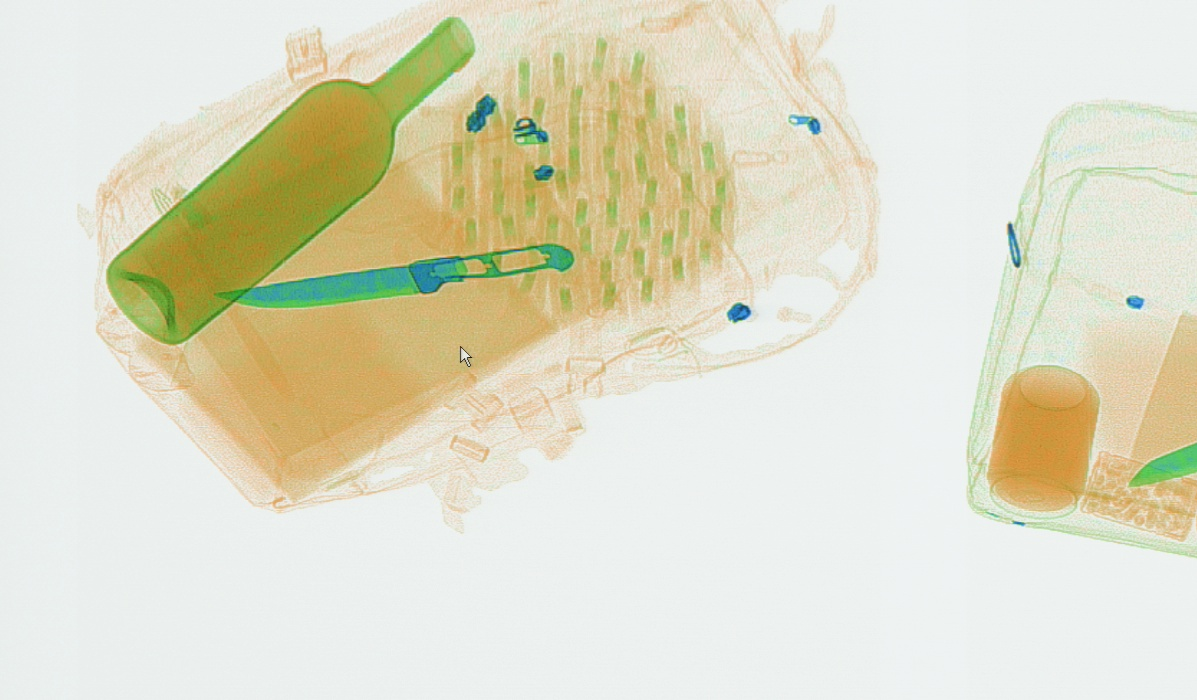firecrackers: (438, 31, 740, 321)
knife: (210, 241, 574, 307)
